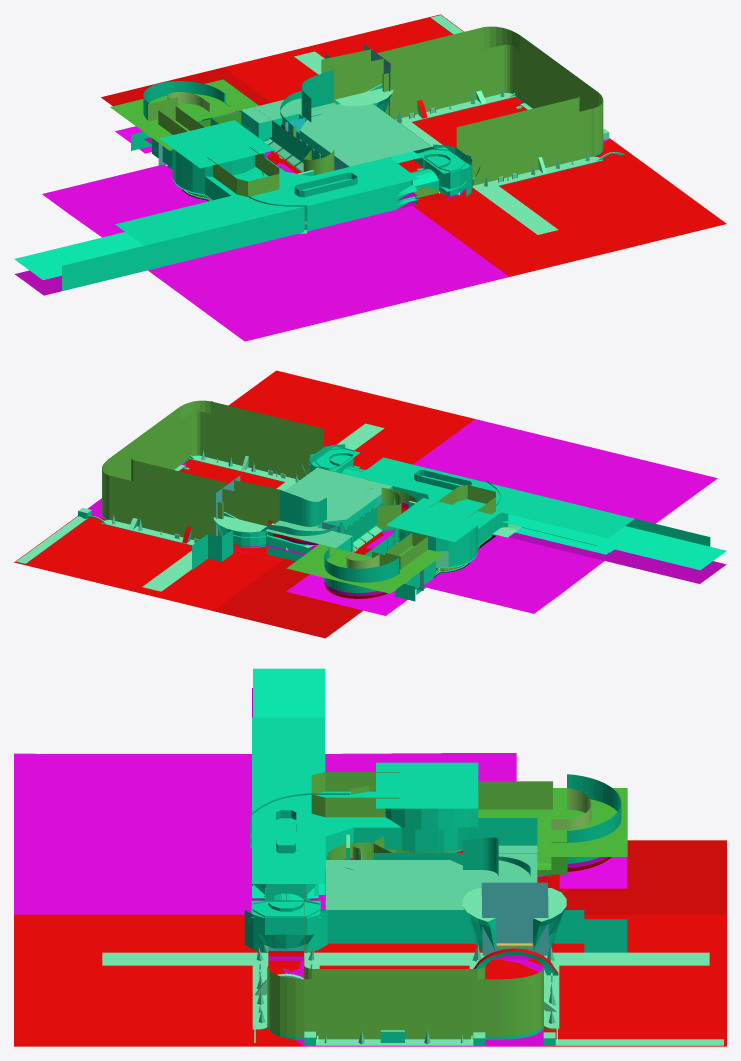
File: mall_collision.glb
3 renders of one model, top to bottom at view 1: azimuth 30°, elevation 25°; view 2: azimuth 150°, elevation 25°; view 3: azimuth 270°, elevation 25°, orthographic. The views are drawn at different scales.
Parts seen in each view (by area): view 1: course; view 2: course; view 3: course.
Part boxes in pixels (box(x1,y1,x2,y2)): course: box(14, 14, 726, 341); course: box(14, 370, 726, 638); course: box(14, 668, 726, 1046).
Bounding box in the file's own units: 1200 × 144 × 1012.
